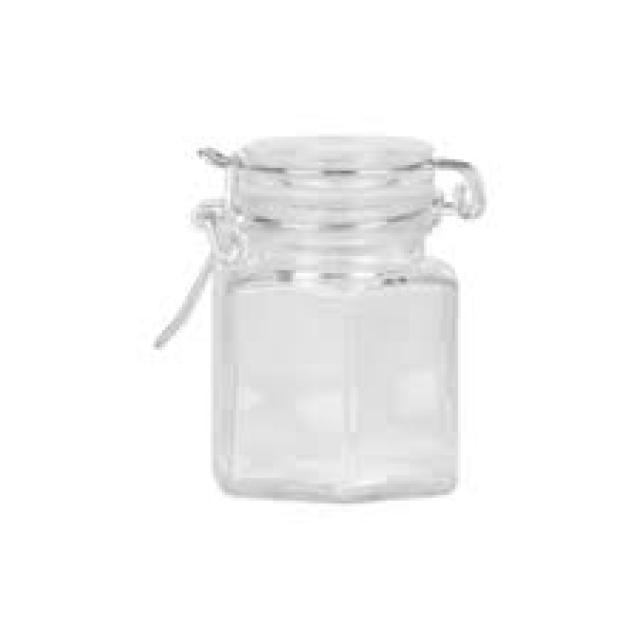glass: (208, 140, 455, 501)
